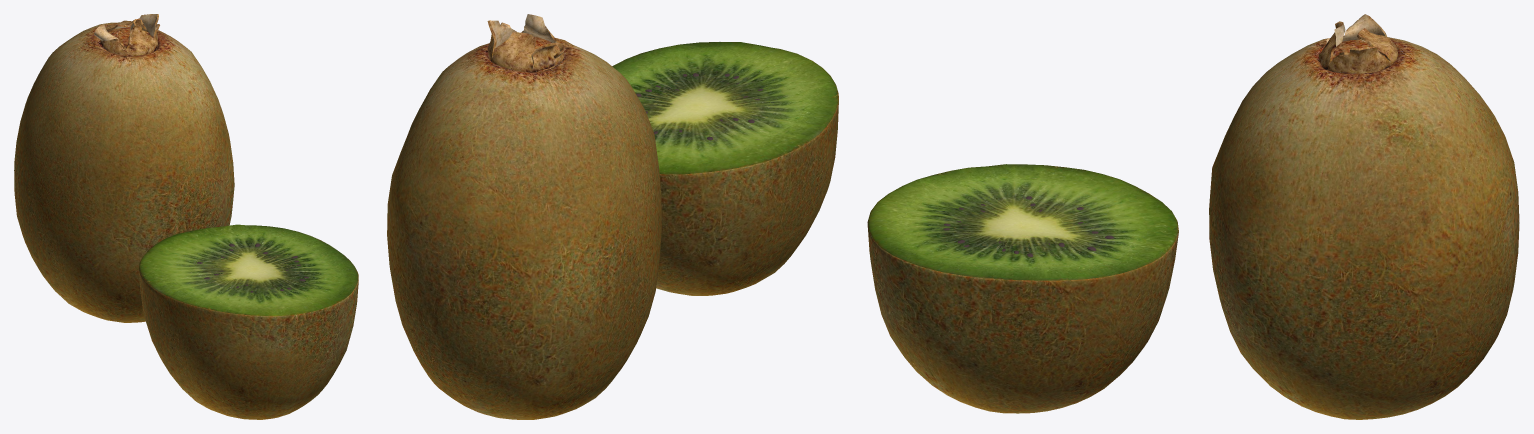
Rendered from Kiwi fruit.fbx.
3 renders of one model, left to right at view 1: azimuth 30°, elevation 25°; view 2: azimuth 150°, elevation 25°; view 3: azimuth 270°, elevation 25°, orthographic. The views are drawn at different scales.
Visible parts, largest first — view 1: Kiwi_fruit, Kiwi_fruit_cut; view 2: Kiwi_fruit, Kiwi_fruit_cut; view 3: Kiwi_fruit, Kiwi_fruit_cut.
Boxes of the visible parts, left/top/right/bottom form: Kiwi_fruit: left=14, top=14, right=234, bottom=322; Kiwi_fruit_cut: left=138, top=224, right=358, bottom=419; Kiwi_fruit: left=387, top=14, right=661, bottom=419; Kiwi_fruit_cut: left=612, top=42, right=838, bottom=295; Kiwi_fruit: left=1209, top=14, right=1519, bottom=419; Kiwi_fruit_cut: left=867, top=164, right=1178, bottom=413.
Size of the model in its own units: 5.61 by 8.64 by 13.15.
